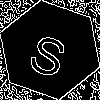S: (25, 25, 74, 79)
